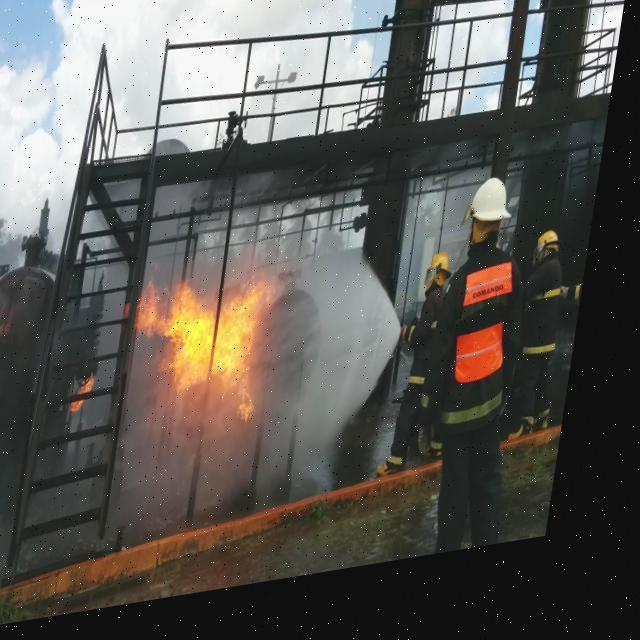Fire: (128, 267, 294, 459), (80, 374, 108, 421)
